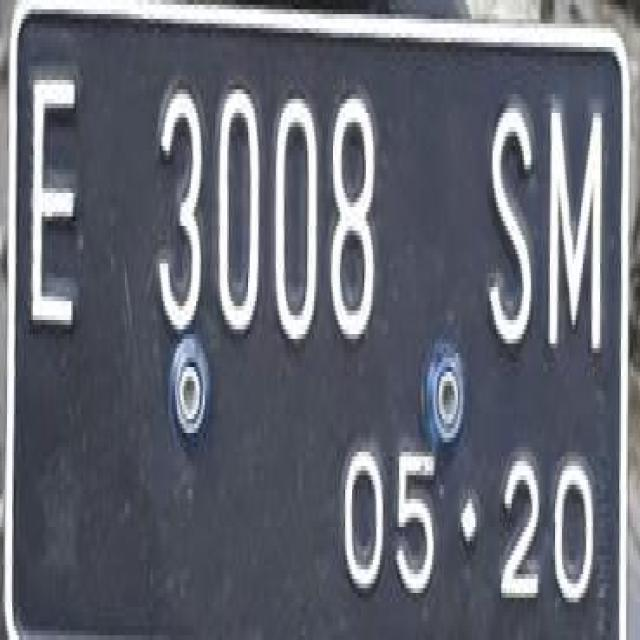0: (268, 61, 324, 358), (212, 61, 264, 344)
3: (152, 58, 206, 342)
8: (326, 58, 383, 374)
E: (24, 52, 90, 353)
M: (542, 90, 610, 376)
S: (482, 85, 538, 368)
